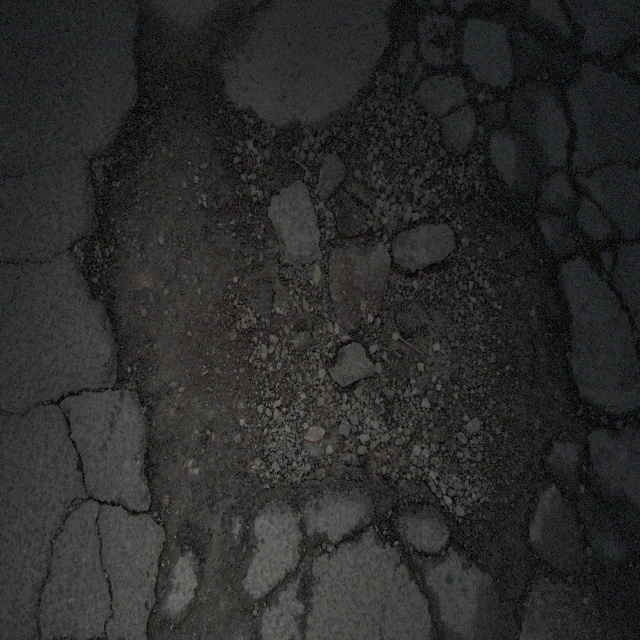pothole: (77, 43, 582, 576)
